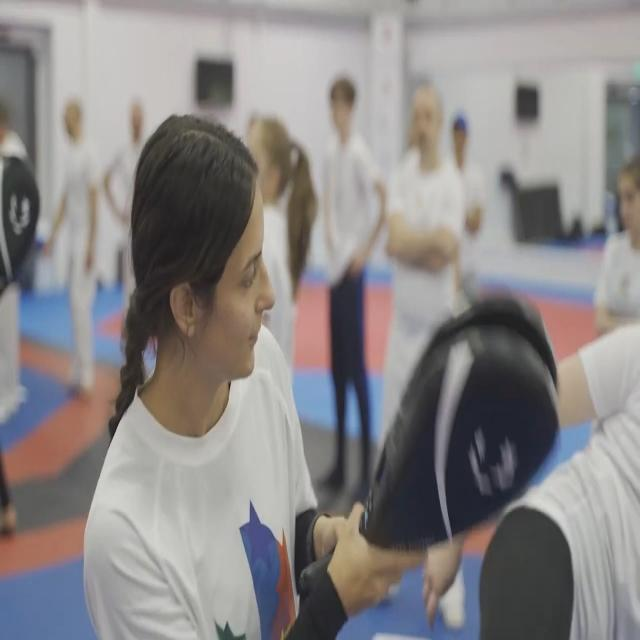paddle: (357, 294, 563, 556)
